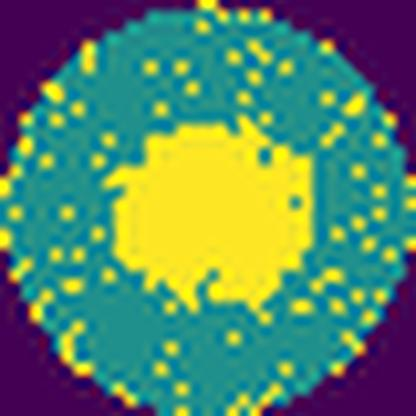Center: (108, 116, 316, 312)
